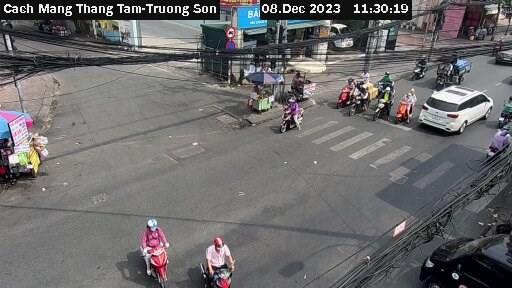car: (421, 221, 512, 288), (417, 78, 494, 134), (492, 39, 512, 66)
motorbike: (131, 237, 176, 288), (272, 98, 320, 144), (199, 259, 240, 288), (485, 130, 512, 167), (408, 53, 431, 82), (392, 94, 412, 123), (371, 91, 390, 120), (333, 83, 353, 110), (495, 97, 512, 124), (348, 88, 367, 112)
